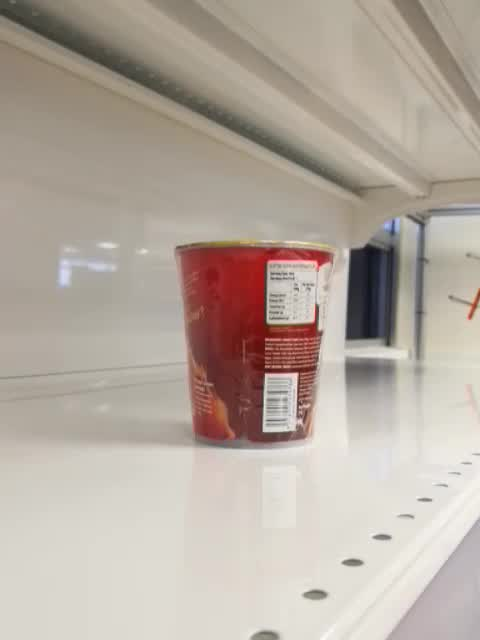maggi: (176, 238, 339, 449)
